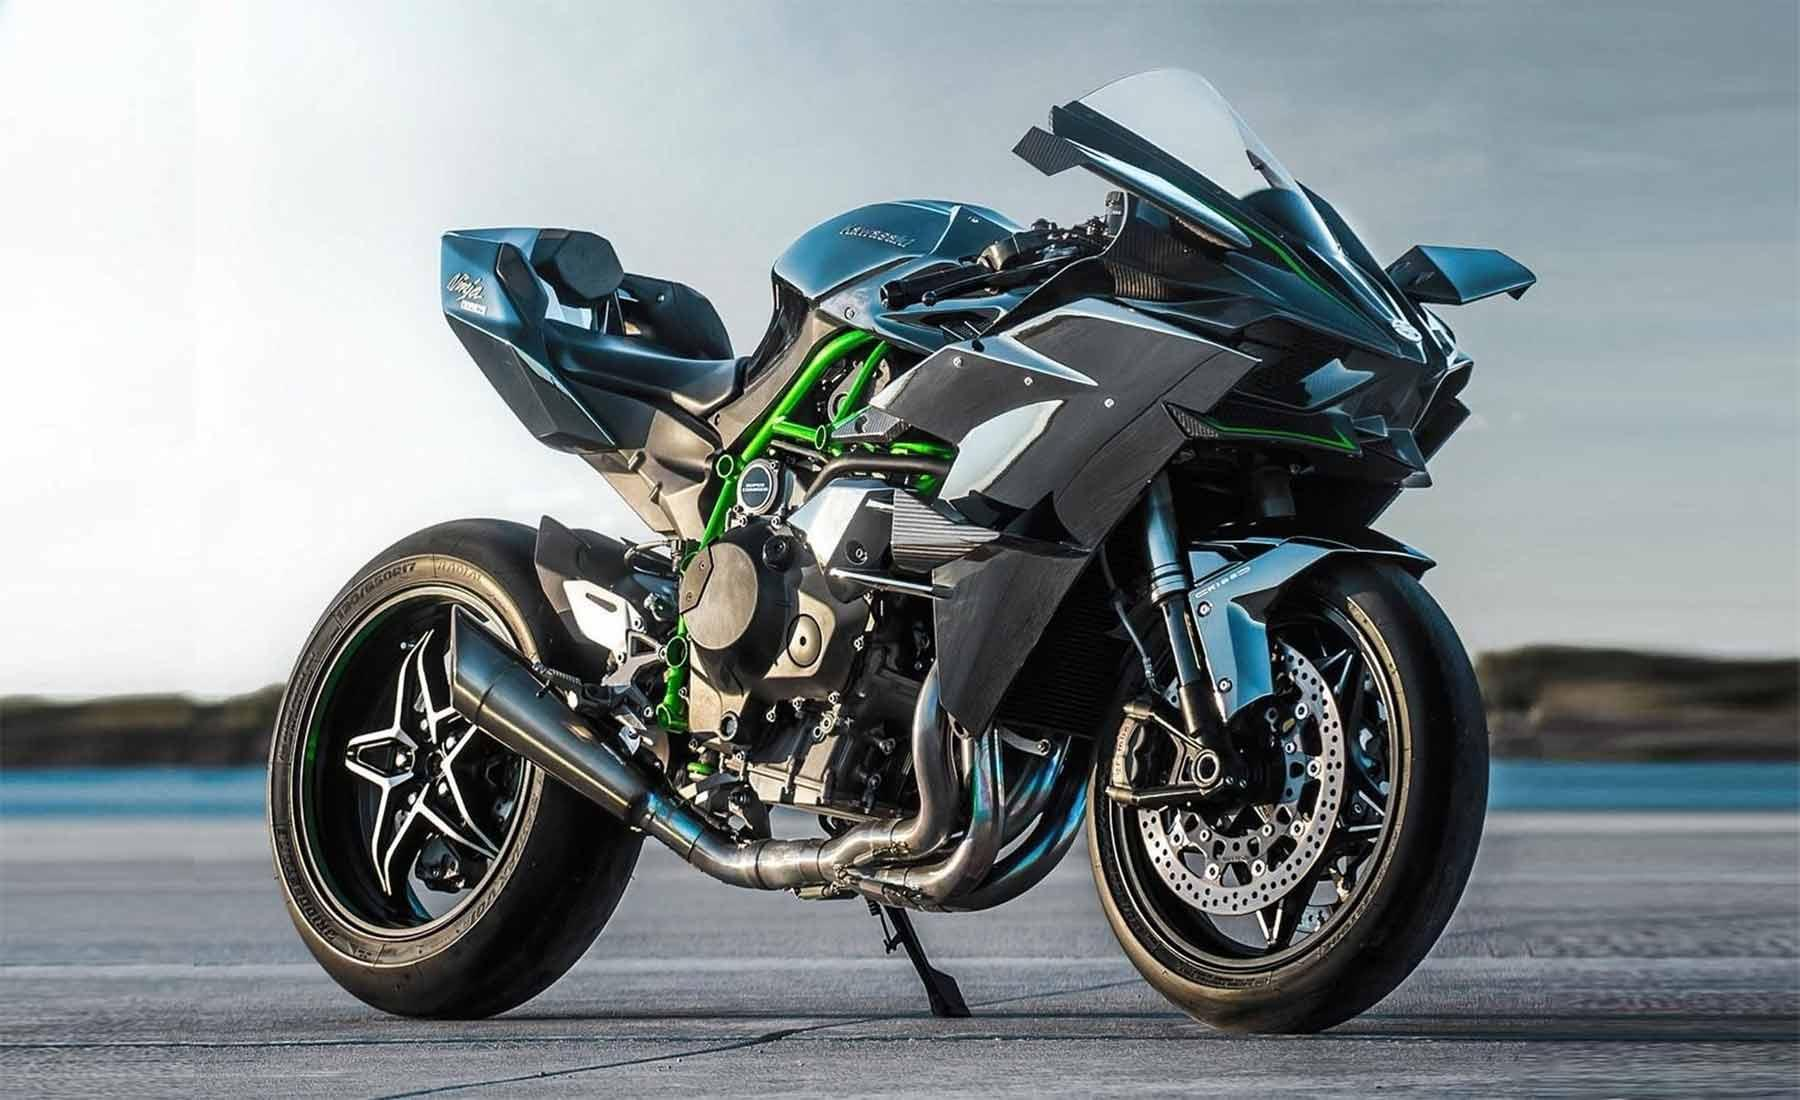motorcycle: (248, 62, 1557, 1050)
